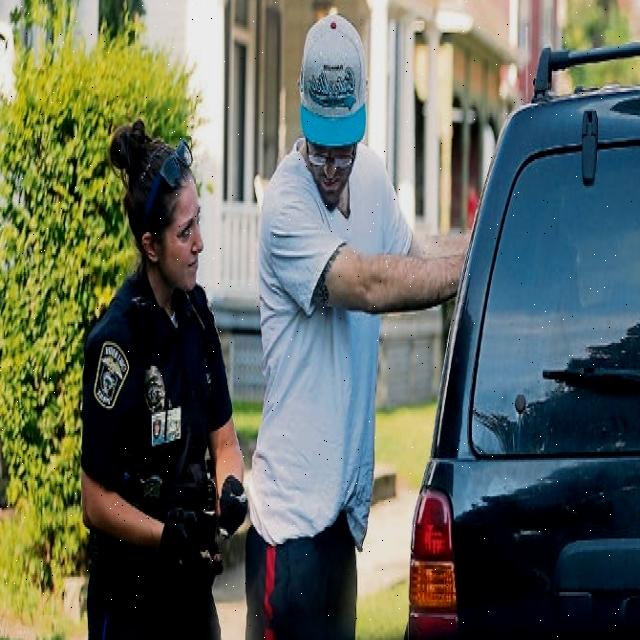police: (78, 109, 252, 640)
